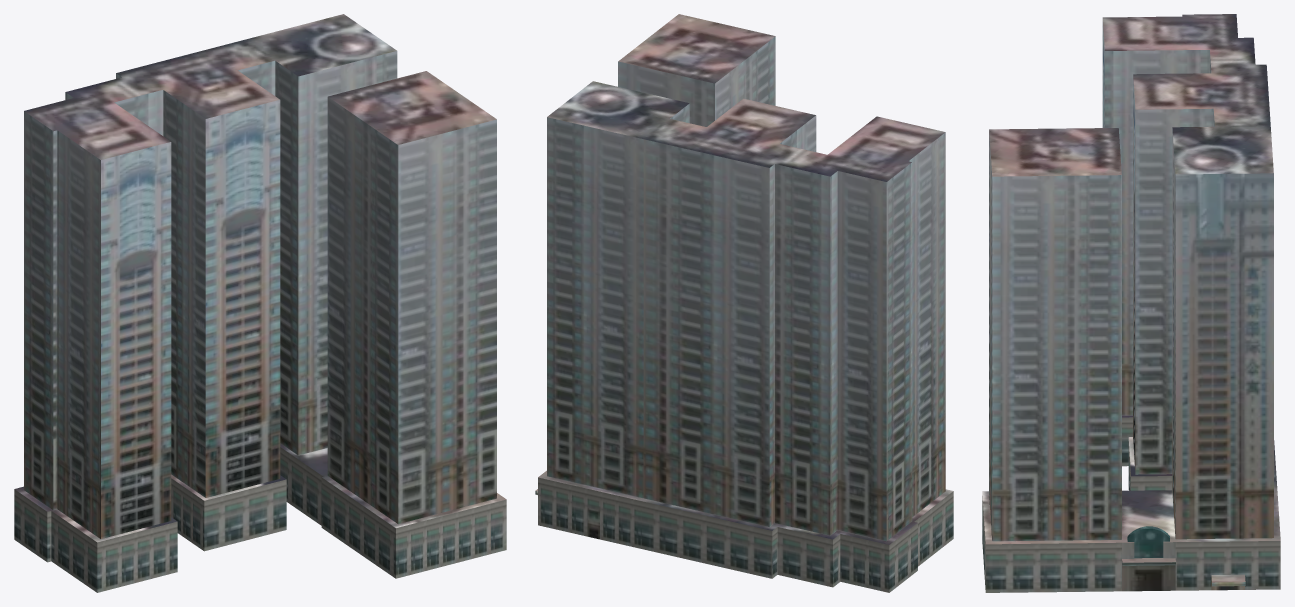
Rendered from farser_corporate_residence_bf1f49d3.glb.
3 views of the same model, side by side, from view 1: azimuth 30°, elevation 25°; view 2: azimuth 150°, elevation 25°; view 3: azimuth 270°, elevation 25° (orthographic). The views are drawn at different scales.
Visible parts, largest first — view 1: farser_corporate_residence_bf1f49d3; view 2: farser_corporate_residence_bf1f49d3; view 3: farser_corporate_residence_bf1f49d3.
Part boxes in pixels (box(x1,y1,x2,y2)): farser_corporate_residence_bf1f49d3: box(14, 14, 506, 592); farser_corporate_residence_bf1f49d3: box(535, 14, 953, 592); farser_corporate_residence_bf1f49d3: box(982, 14, 1280, 592).
Bounding box in the file's own units: 92.73 × 102 × 66.75.
1 material, 1 textured.
